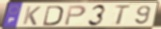3: (86, 4, 110, 27)
9: (134, 5, 152, 25)
D: (42, 5, 64, 26)
K: (21, 5, 42, 26)
P: (63, 5, 88, 27)
T: (113, 5, 132, 26)
